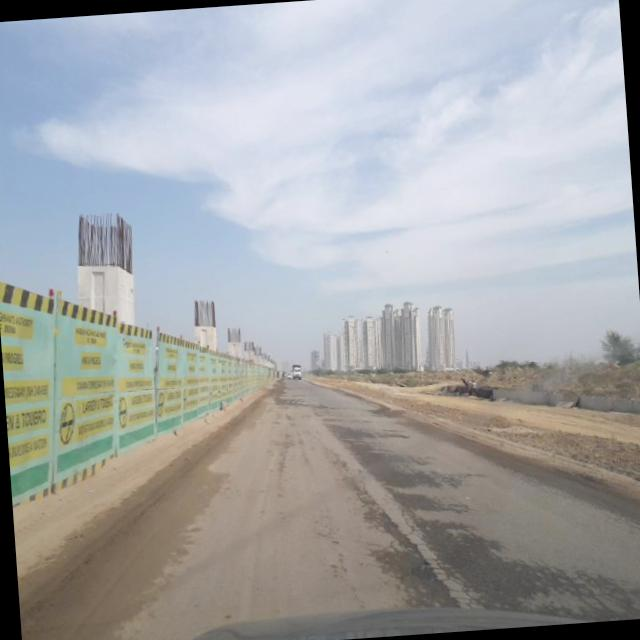crack: (354, 472, 640, 627)
pothole: (312, 399, 436, 552)
